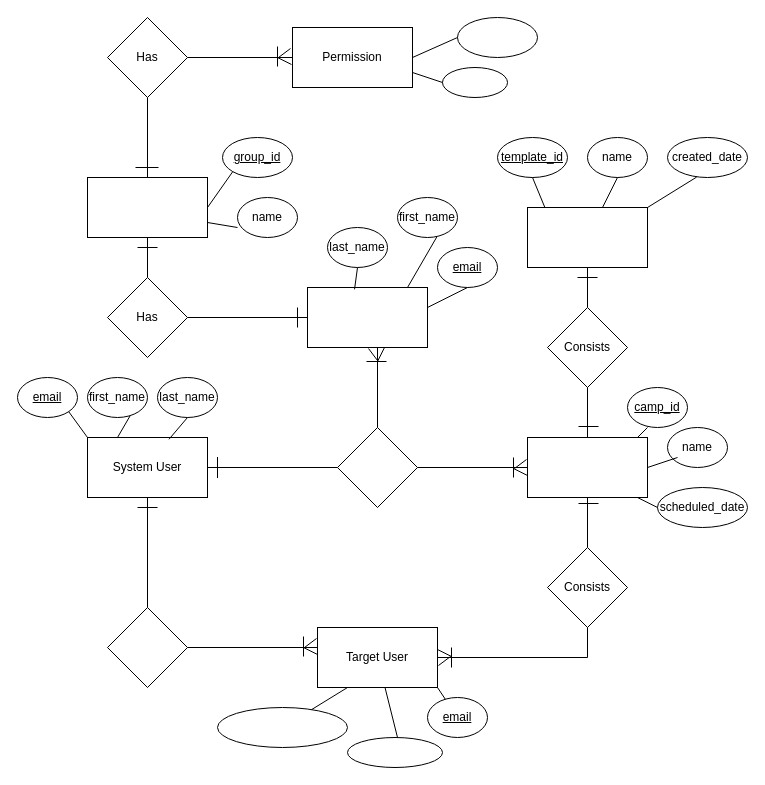
The diagram is 765 pixels wide and 785 high, and some of its shapes have lost their labels. The box of each missing label's shape, as (x1, y1, x2, y2) in pixels:
camapaigns_associated: (216, 706, 348, 748)
Campaign: (526, 436, 648, 498)
captured_data: (346, 736, 442, 768)
Creates: (336, 426, 418, 508)
details: (442, 66, 508, 98)
Permission Group: (86, 176, 208, 238)
permission_id: (456, 16, 538, 58)
Sends Campaign: (106, 606, 188, 688)
Staff User: (306, 286, 428, 348)
Template: (526, 206, 648, 268)
